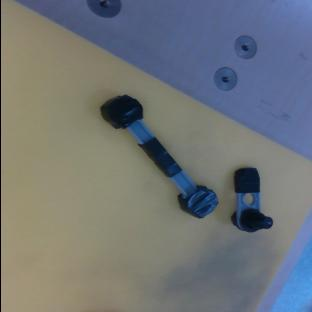part_1_bad: (216, 164, 273, 239)
part_3_bad: (95, 86, 221, 227)
